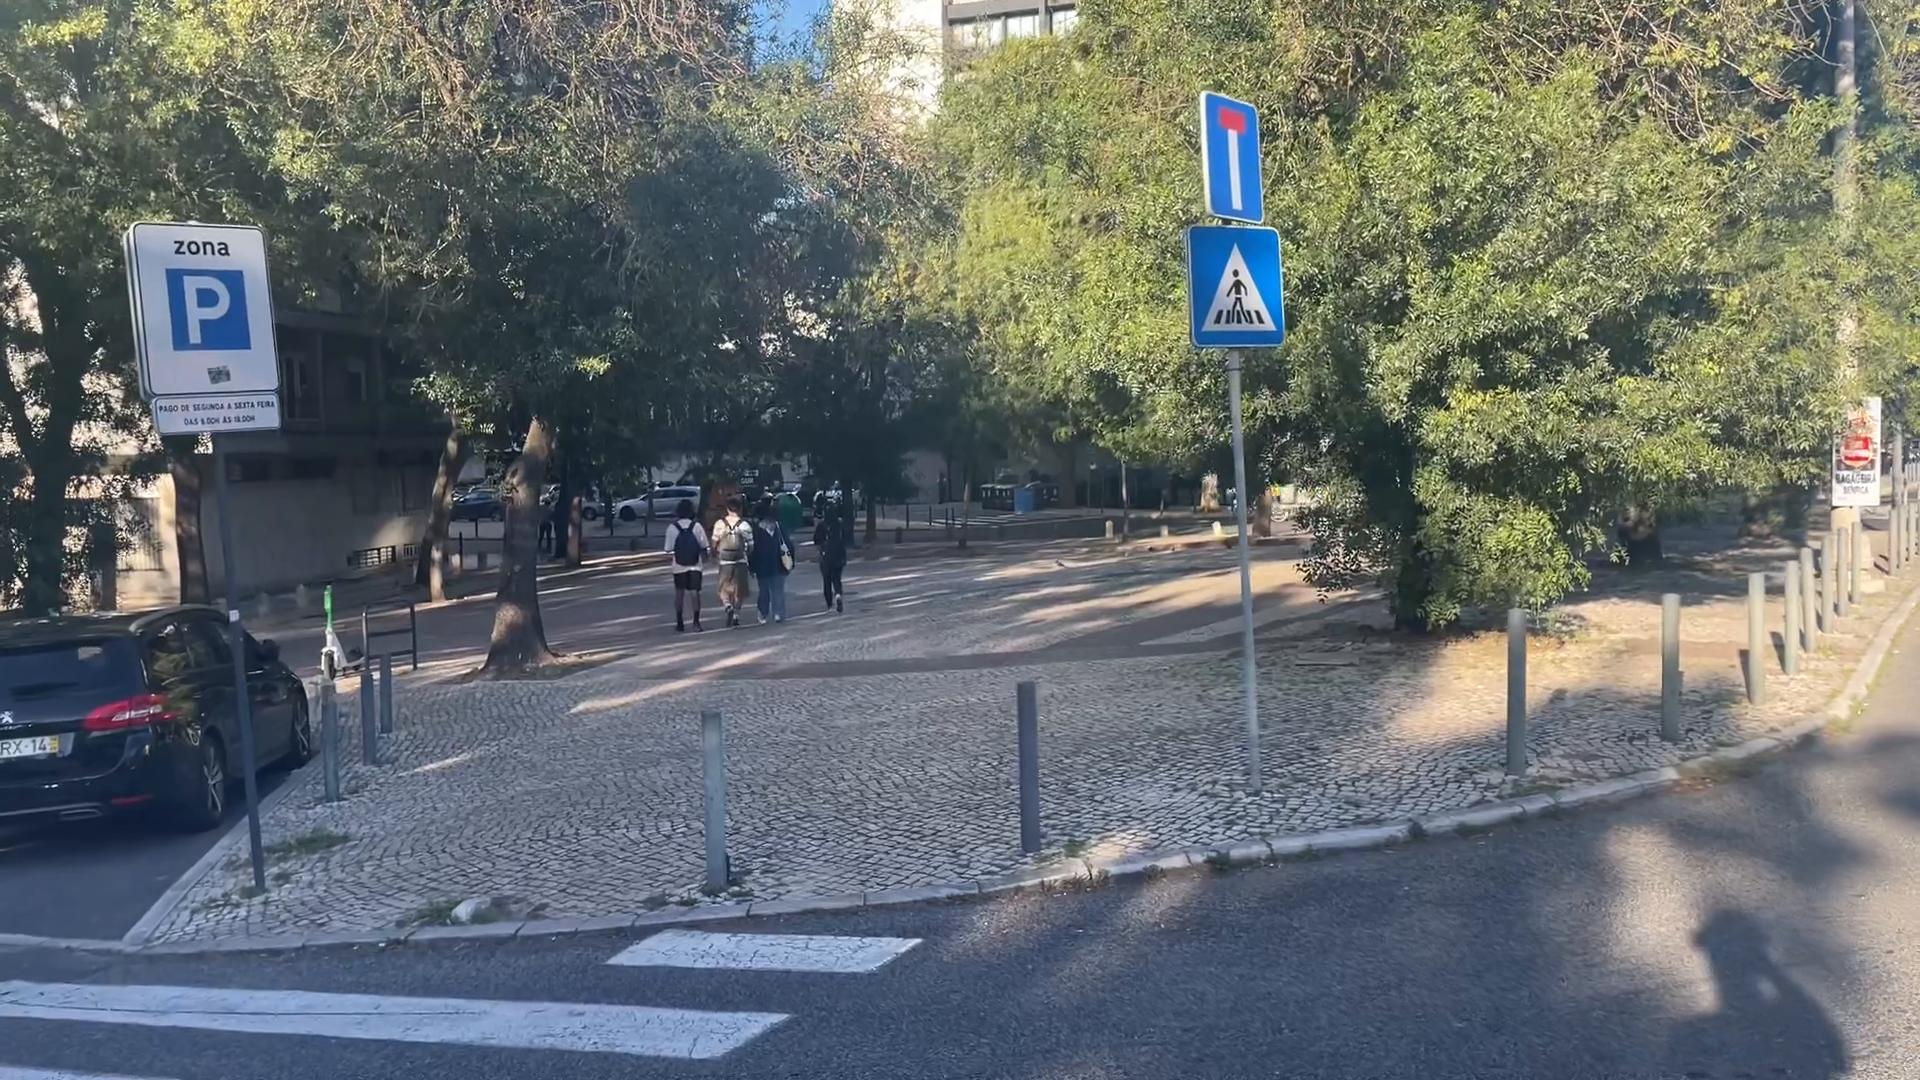via publica sem saida: (1189, 94, 1273, 222)
zona de estacionamento autorizado: (123, 211, 287, 396)
